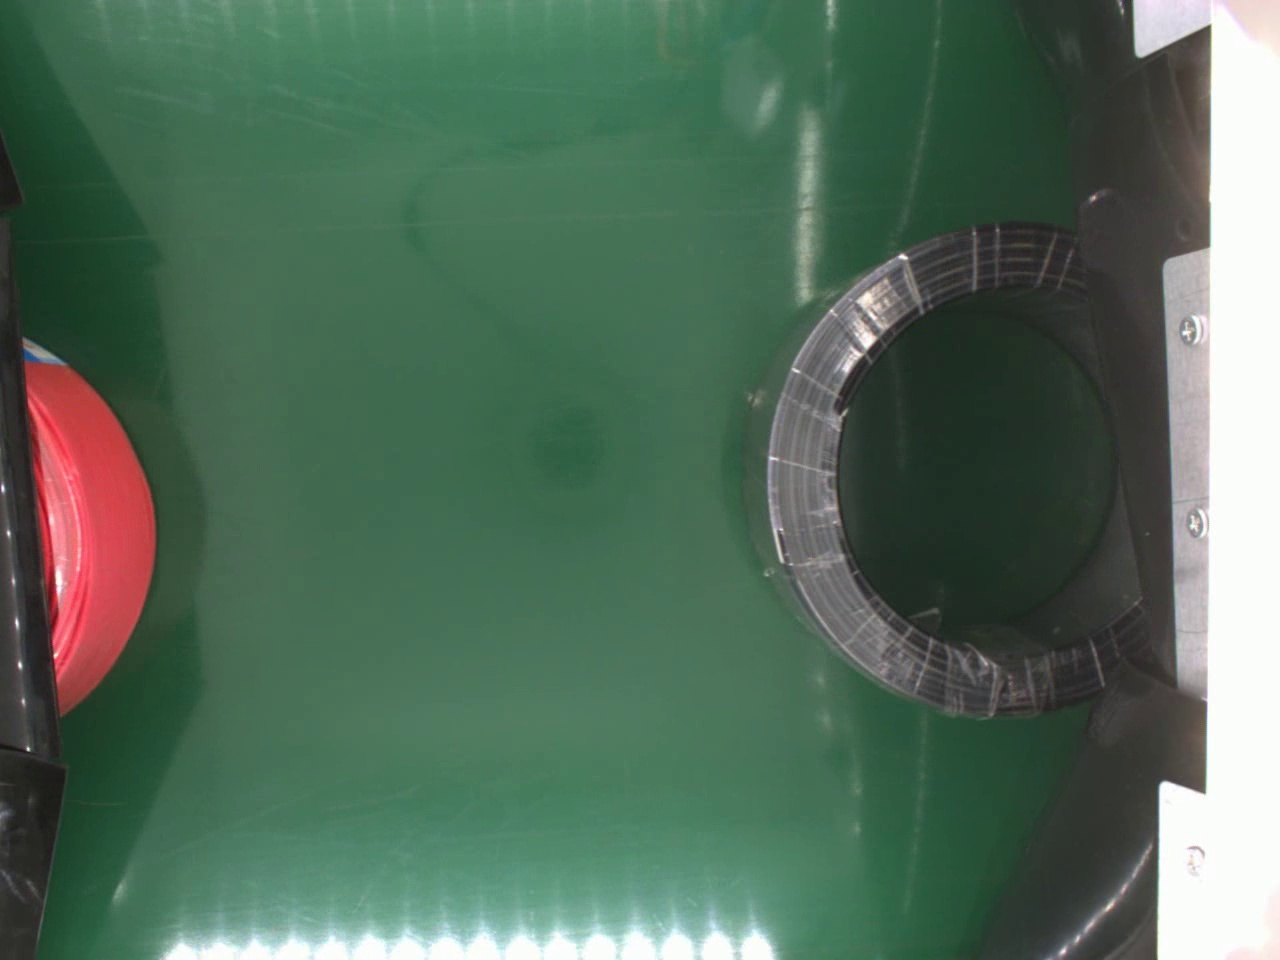black: (746, 218, 1151, 723)
red: (16, 334, 157, 713)
